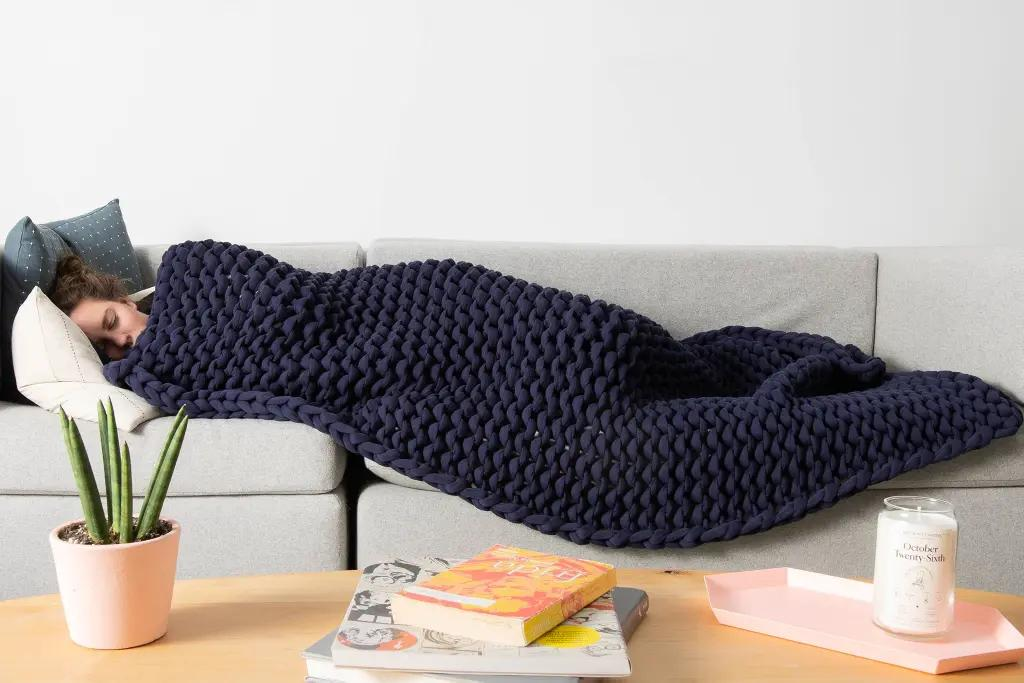blanket: (101, 238, 1024, 548)
